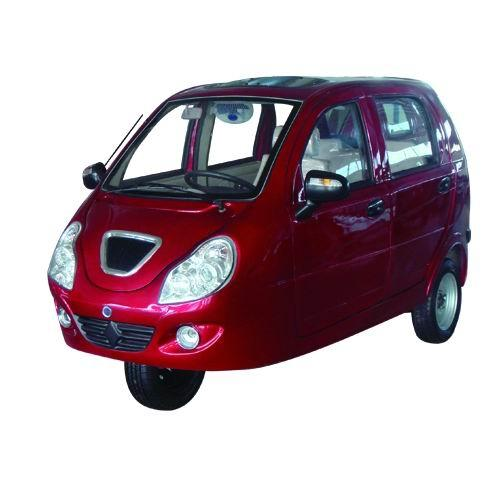tricycle: (30, 58, 477, 405)
